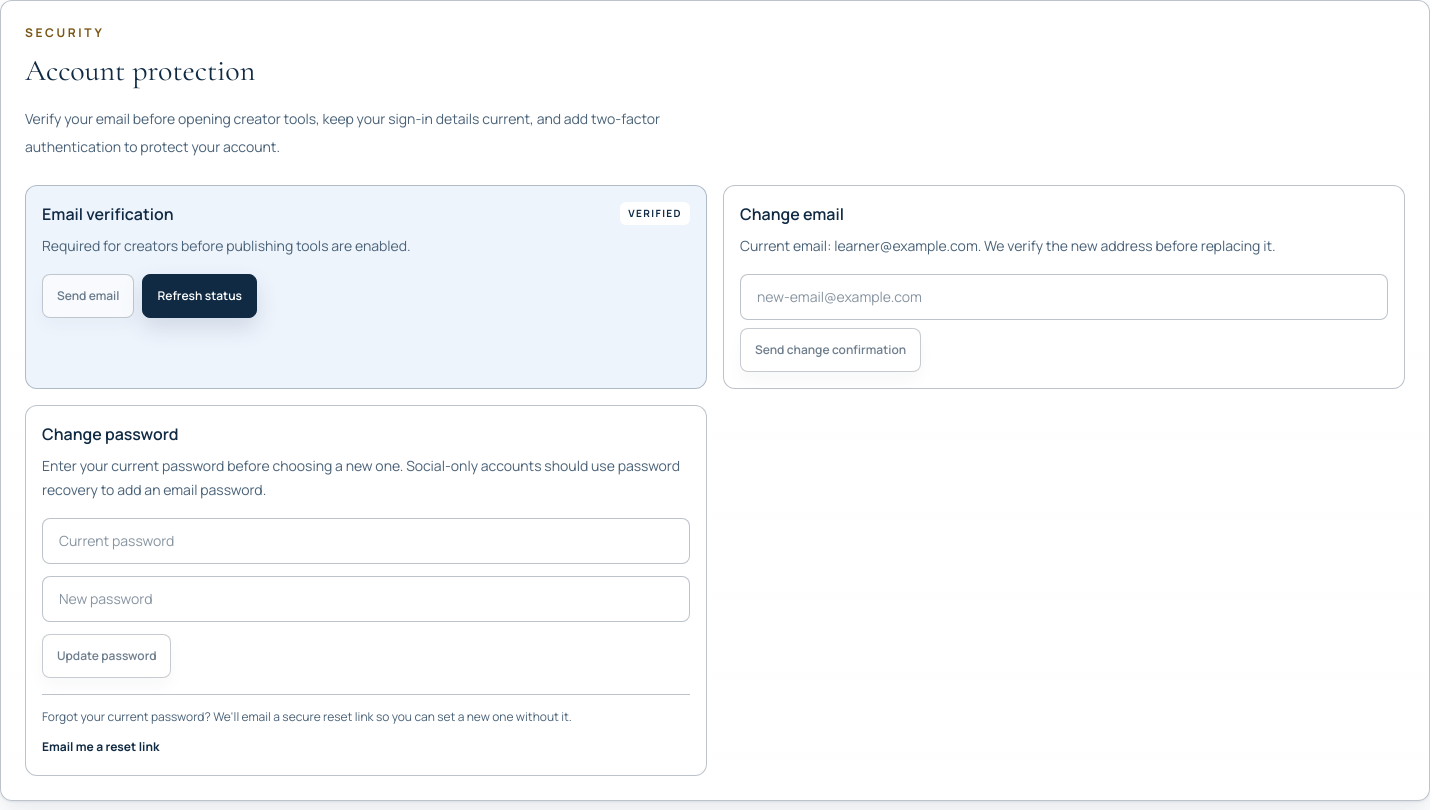
SecuritySettingsPanel with CAPTCHA protection on › re-authenticates the password change with the captcha token
In the password field labelled "Current password": (366, 541) [42,518,690,564], type "OldPass1!"
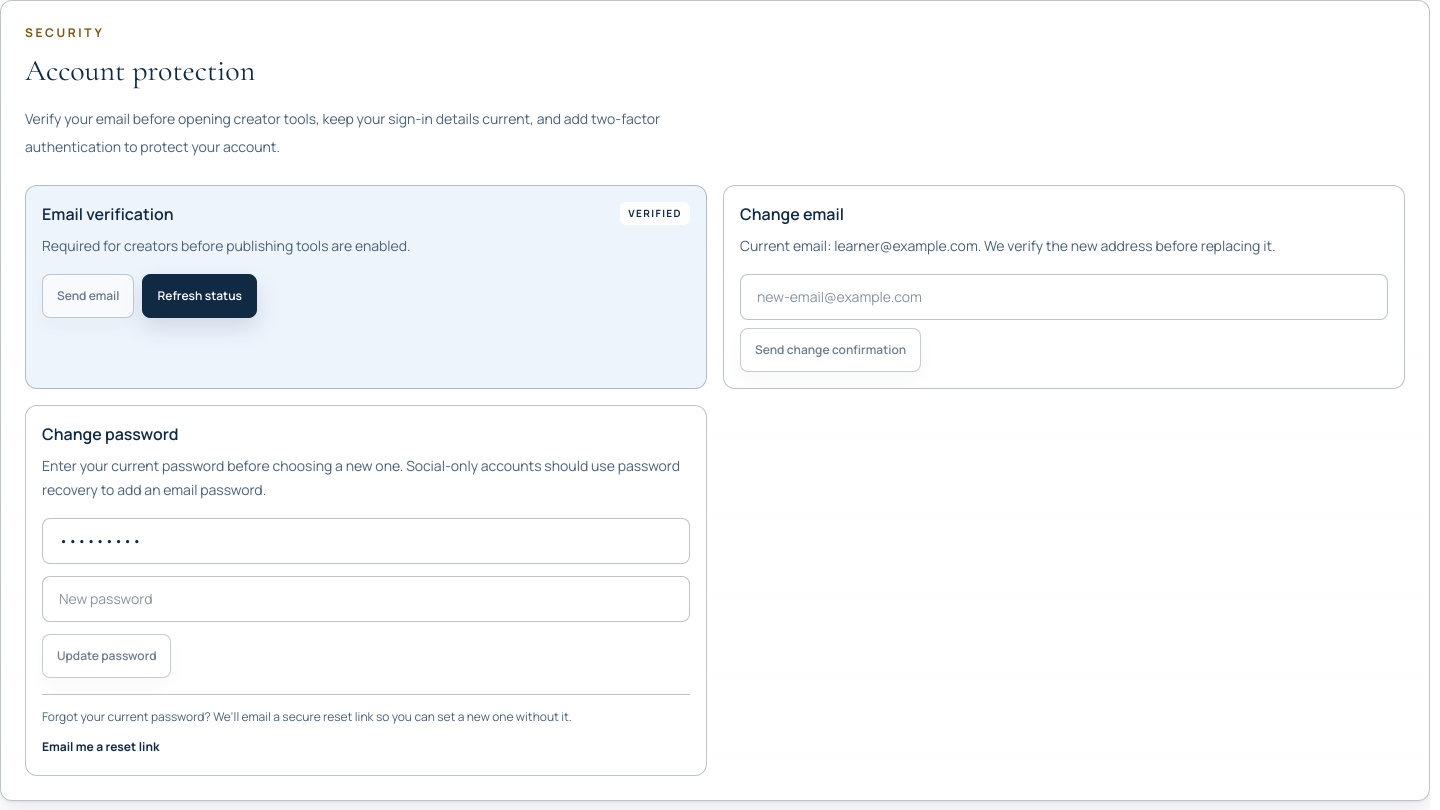
In the password field labelled "New password": (366, 599) [42,576,690,622], type "Skillset2026!"
(page scrolled)
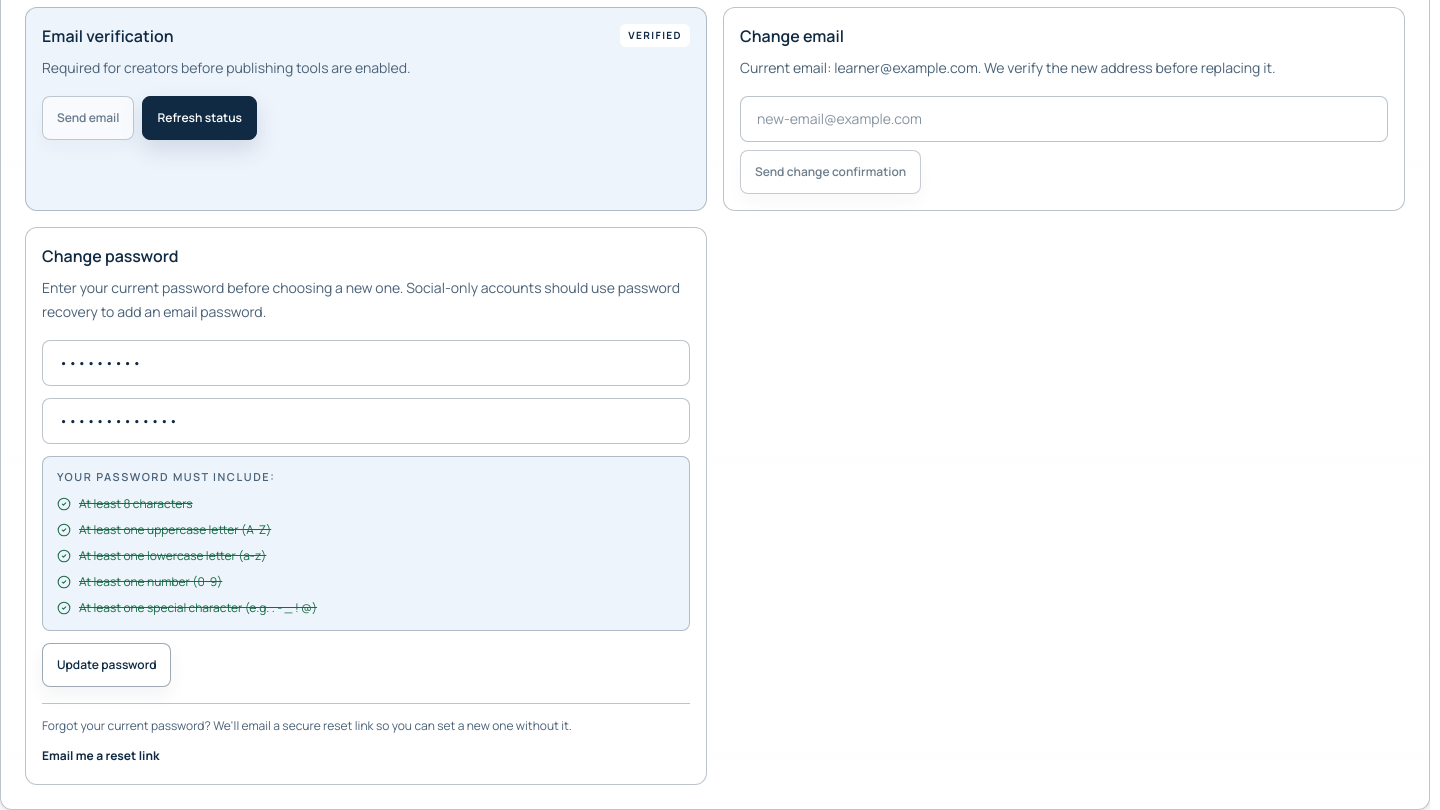
Click the button "Update password": (107, 664) [42,642,172,686]
(page scrolled)
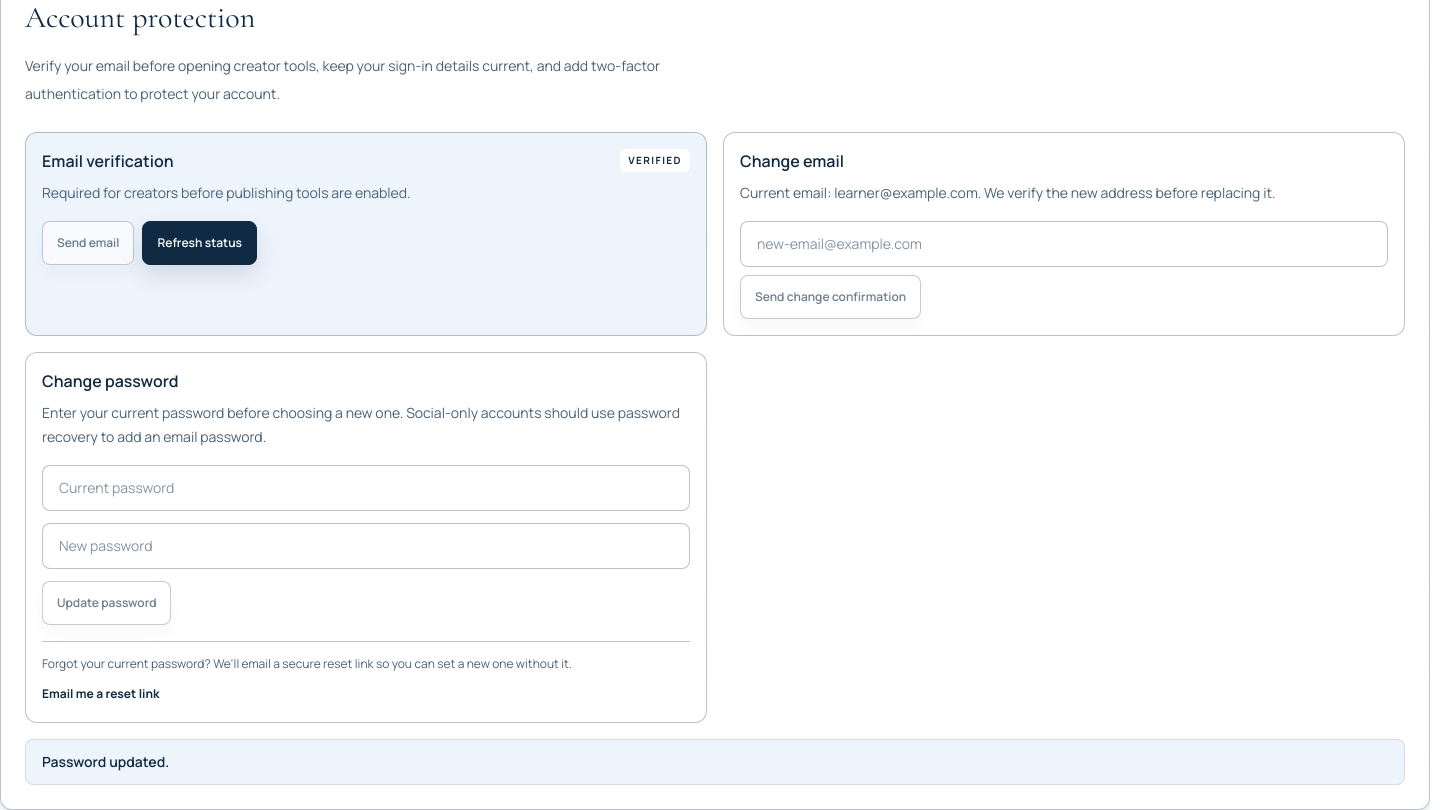
Expected: the message "Password updated." is shown, [25,739,1405,785]
